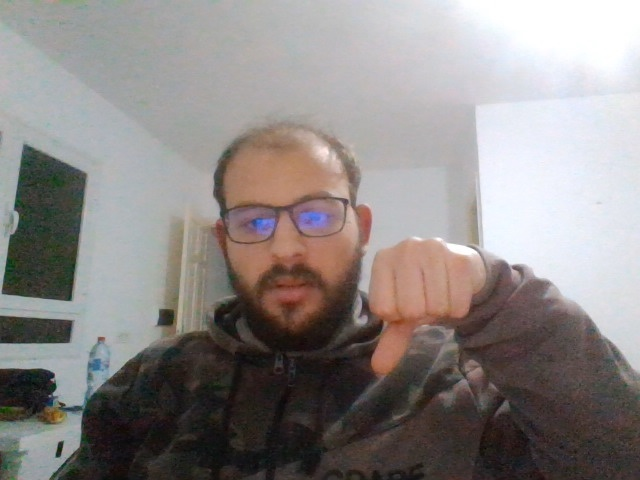Yes: (368, 238, 472, 376)
